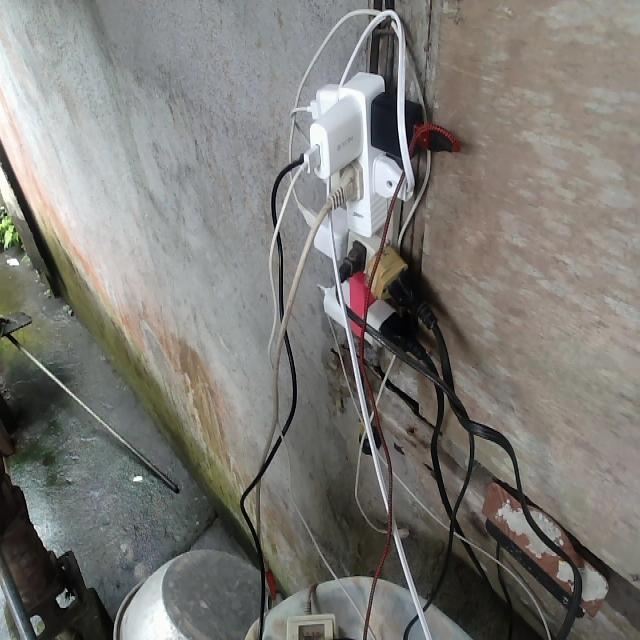-: (293, 71, 442, 360)
